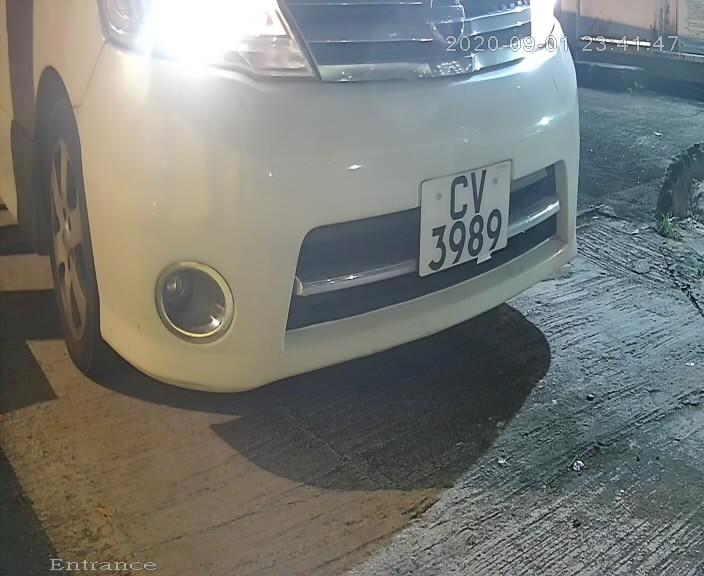License Plate: (409, 145, 516, 289)
